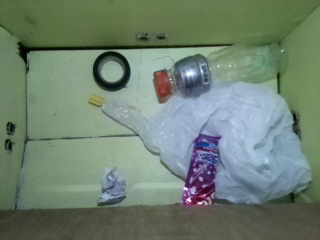bottle: (153, 36, 289, 102)
paper: (97, 164, 127, 206)
plastic-bag: (102, 82, 311, 201)
